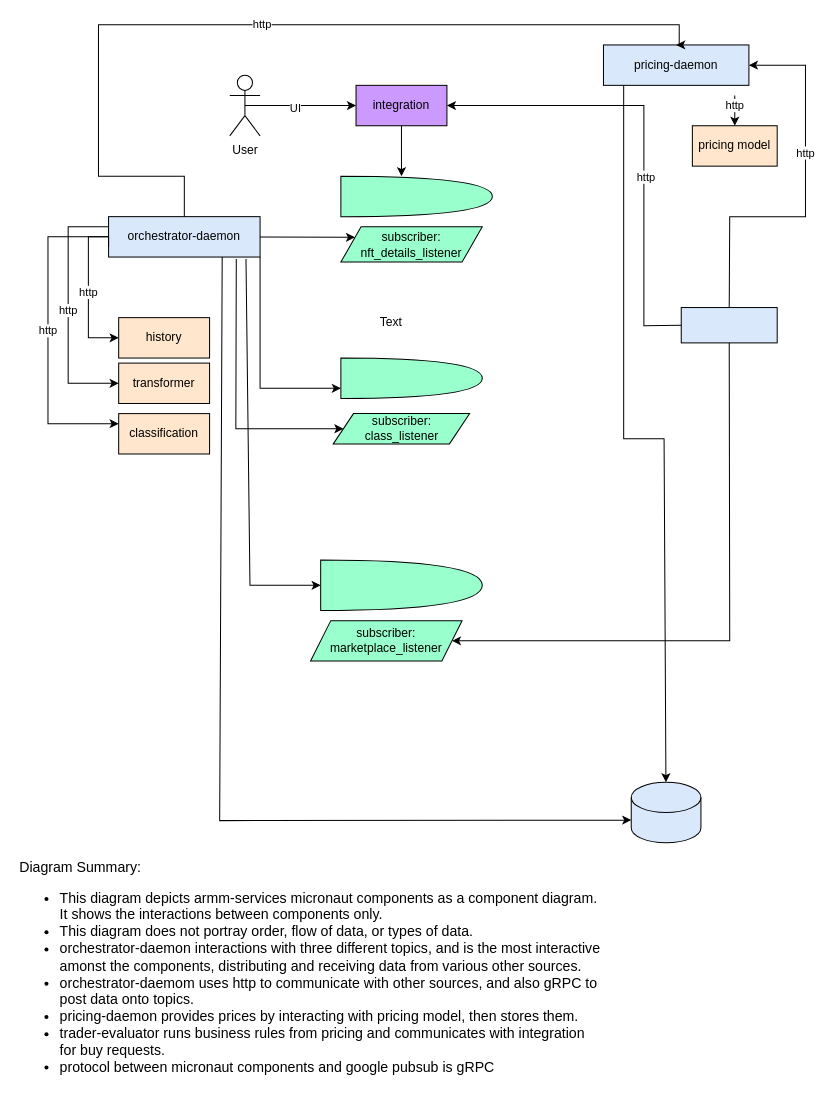
This 831x1113 diagram has some shape labels left out. Here are the shapes that lost their labels. From the top down, the centre of each, then its label:
[416,196]: Topic: nft_details
[728,325]: trader-evaluator
[411,377]: Topic: classifier
[401,585]: Topic: nft_marketplace_state
[665,812]: Postgres
